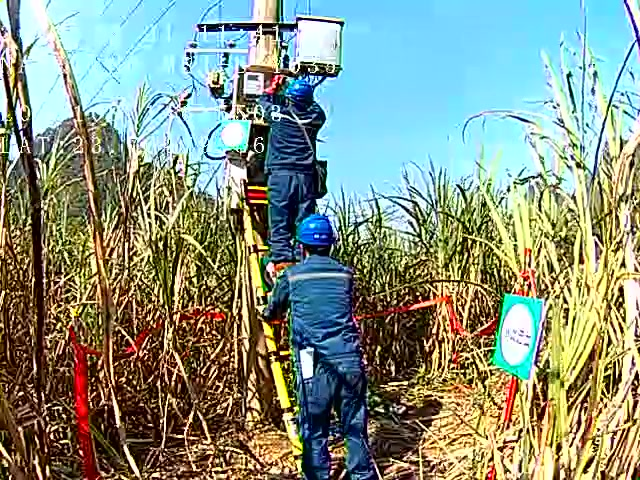downsuit: (300, 359, 372, 480), (266, 173, 315, 250)
halt: (296, 214, 337, 257), (286, 82, 315, 112)
intosign: (489, 293, 543, 379)
longglove: (265, 72, 287, 99)
person: (265, 213, 378, 480), (254, 73, 337, 257)
upsuit: (263, 256, 360, 344), (262, 106, 319, 170)
